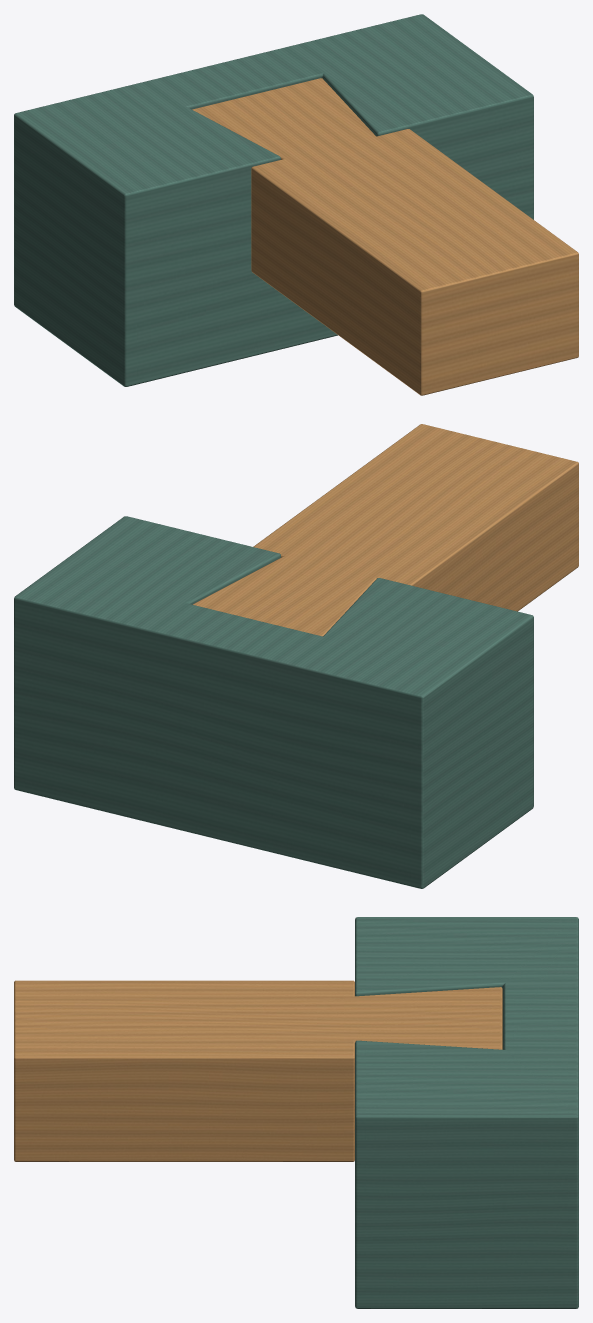
File: out-joint.glb
The picture shows the model from 3 angles, top to bottom: view 1: azimuth 30°, elevation 25°; view 2: azimuth 150°, elevation 25°; view 3: azimuth 270°, elevation 25°; orthographic projection.
Visible parts, largest first — view 1: 牛头 · 上开燕尾卯, 平苗 · 燕尾端; view 2: 牛头 · 上开燕尾卯, 平苗 · 燕尾端; view 3: 牛头 · 上开燕尾卯, 平苗 · 燕尾端.
Boxes of the visible parts, x1,y1,x2,y2 form: 牛头 · 上开燕尾卯: (14,14,533,386); 平苗 · 燕尾端: (192,78,578,395); 牛头 · 上开燕尾卯: (14,516,533,888); 平苗 · 燕尾端: (193,424,578,636); 牛头 · 上开燕尾卯: (355,917,578,1308); 平苗 · 燕尾端: (14,980,502,1161).
Size of the model in its own units: 0.93 by 0.42 by 1.11.
2 materials, 2 textured.
